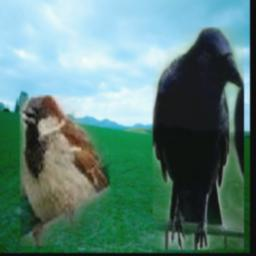Crow: (152, 27, 244, 250)
Sparrow: (20, 96, 110, 247)
